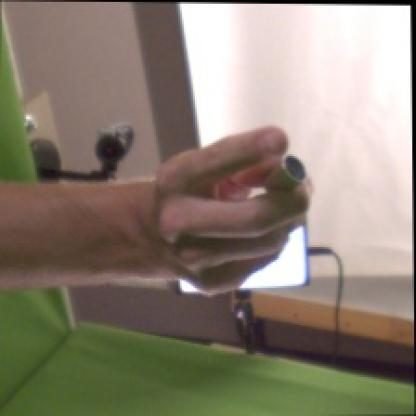Hand: (149, 125, 314, 295)
